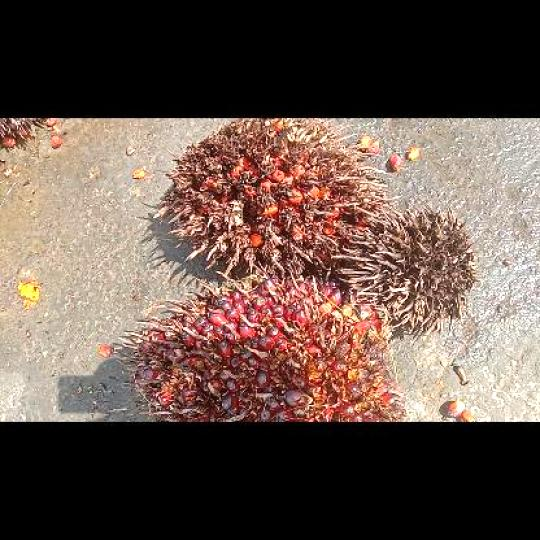masak: (119, 262, 405, 421)
terlalu masak: (154, 117, 396, 280)
